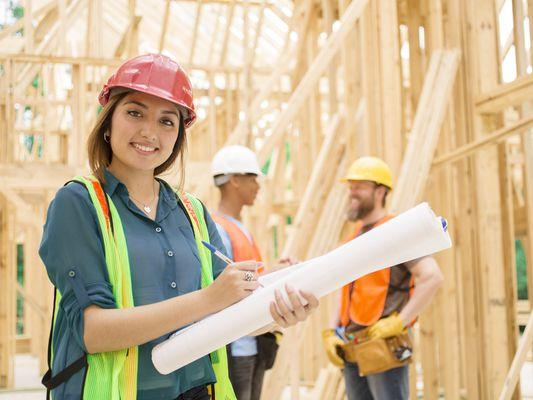helmet: (98, 53, 197, 130), (212, 144, 265, 181), (347, 156, 399, 191)
